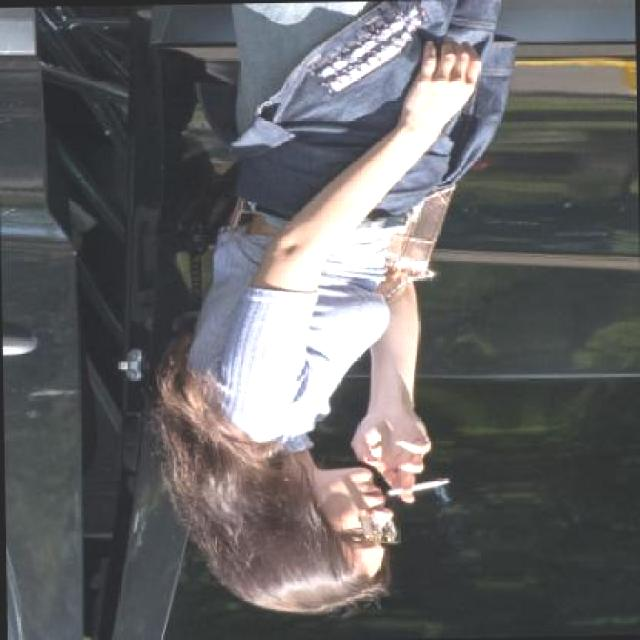cigarette: (384, 473, 450, 495)
